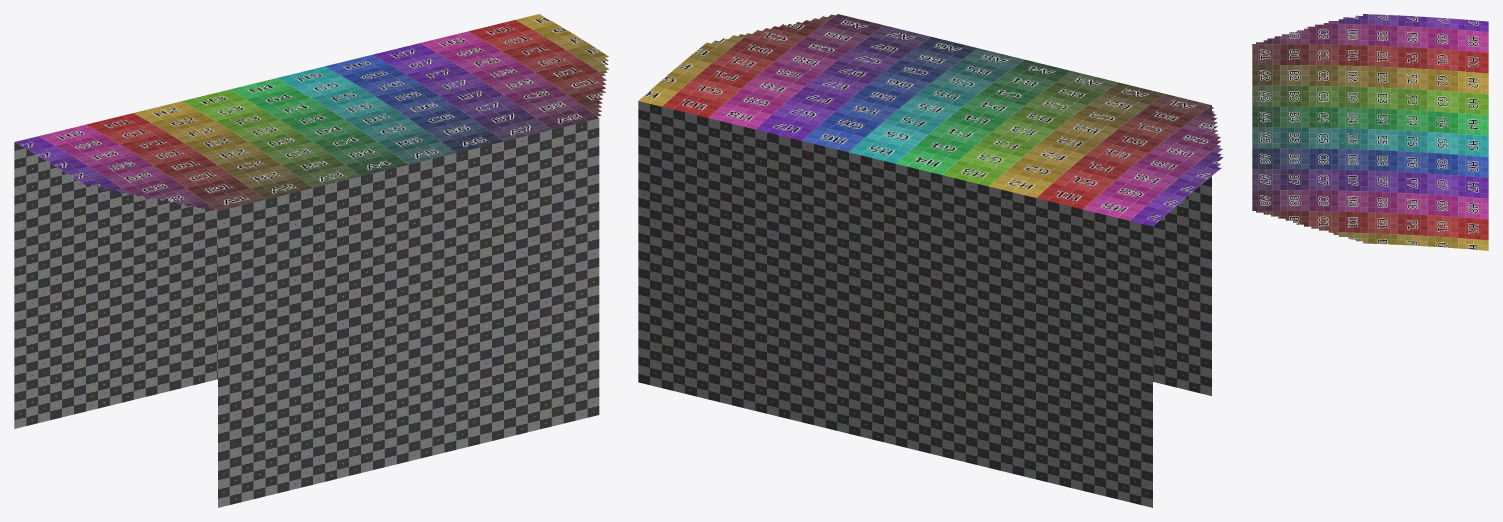
File: ocean-impostor.glb
3 renders of one model, left to right at view 1: azimuth 30°, elevation 25°; view 2: azimuth 150°, elevation 25°; view 3: azimuth 270°, elevation 25°, orthographic. The views are drawn at different scales.
Parts seen in each view (by area): view 1: ocean_impostor_surface; view 2: ocean_impostor_surface; view 3: ocean_impostor_surface.
Part boxes in pixels (left/top/right/bottom): ocean_impostor_surface: left=14, top=14, right=609, bottom=507; ocean_impostor_surface: left=638, top=14, right=1223, bottom=507; ocean_impostor_surface: left=1252, top=14, right=1488, bottom=250.
Bounding box in the file's own units: 148 × 80.03 × 64.43.
3 materials, 3 textured.
